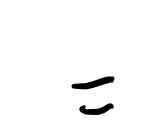eqv: (73, 76, 115, 115)
